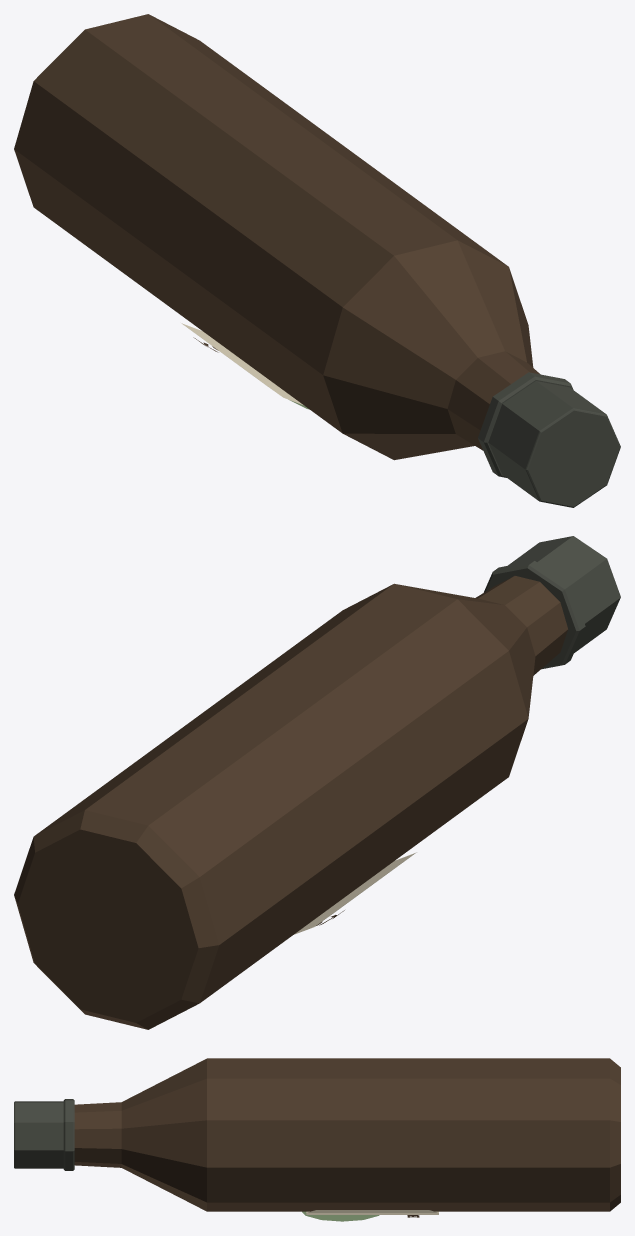
File: kombucha.glb
3 renders of one model, top to bottom at view 1: azimuth 30°, elevation 25°; view 2: azimuth 150°, elevation 25°; view 3: azimuth 270°, elevation 25°, orthographic. The views are drawn at different scales.
Parts seen in each view (by area): view 1: kombucha; view 2: kombucha; view 3: kombucha.
Part boxes in pixels (x1,y1,x2,y2): kombucha: [14, 14, 620, 507]; kombucha: [14, 536, 620, 1029]; kombucha: [14, 1058, 620, 1221].
Bounding box in the file's own units: 0.056 × 0.0576 × 0.22.
